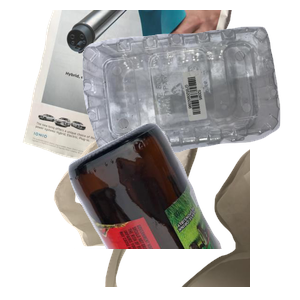glass: (66, 120, 300, 300)
paper: (20, 10, 244, 190)
plastic: (80, 24, 300, 172)
trash: (51, 120, 291, 300)
